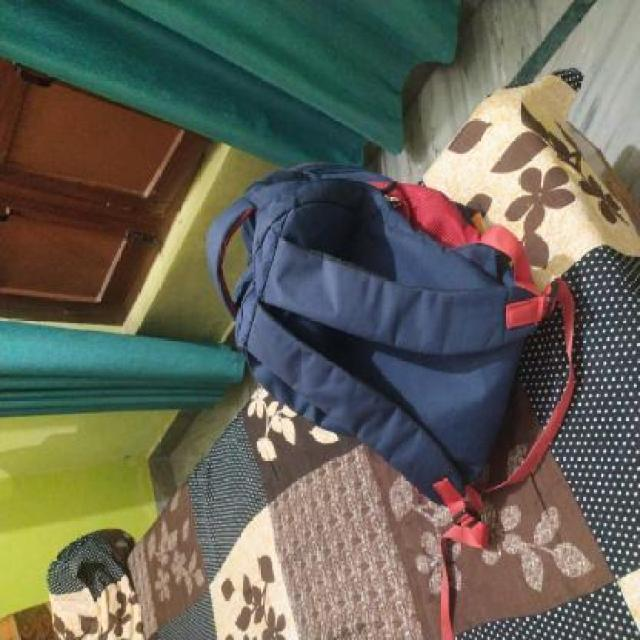backpack: (203, 157, 583, 555)
